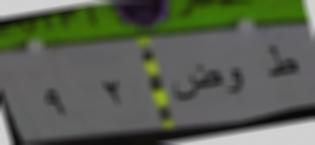2: (100, 74, 130, 112)
9: (37, 88, 74, 124)
Taa: (262, 40, 301, 85)
daad: (169, 59, 223, 106)
waw: (228, 64, 247, 99)
